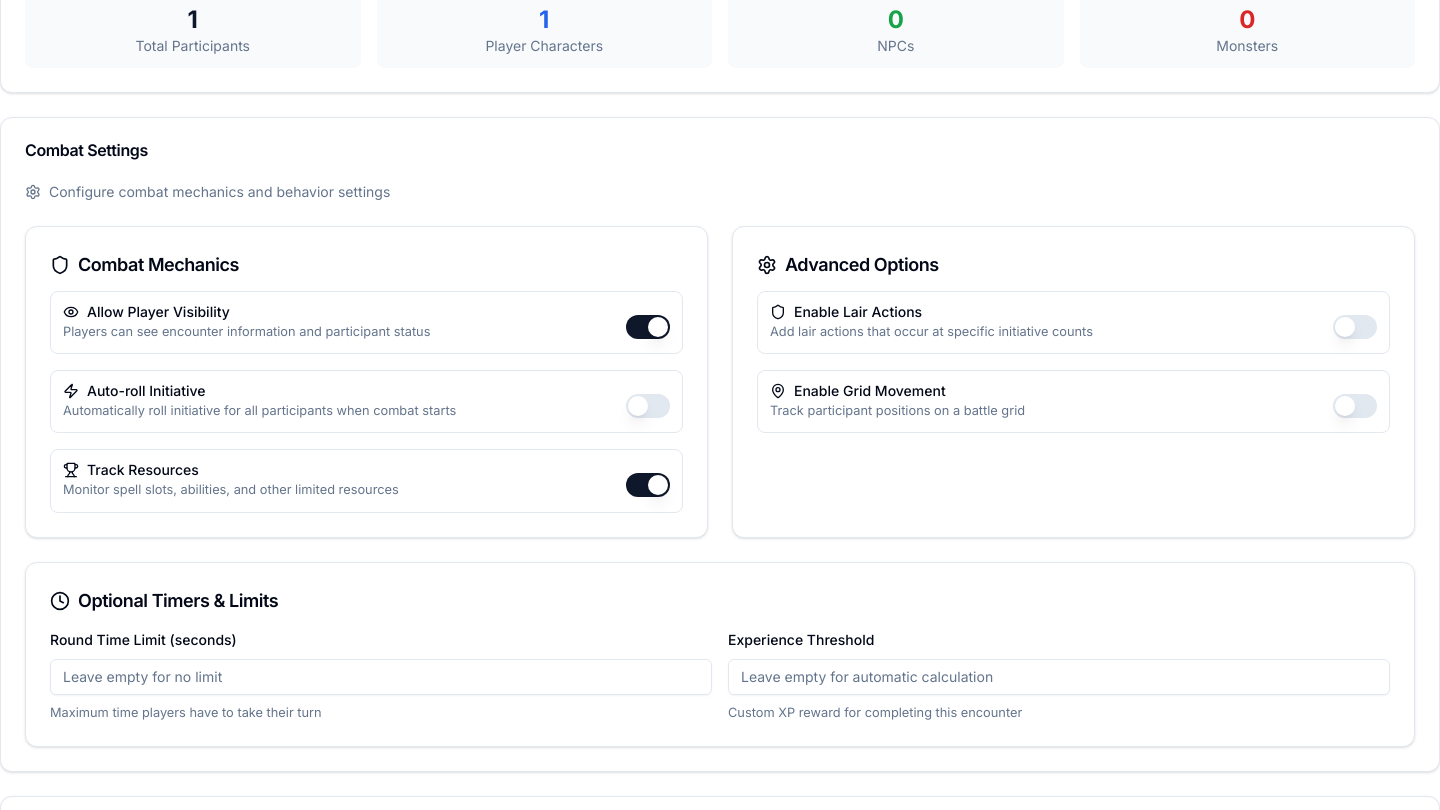
it: EncounterEditForm › Settings Section › should show conditional grid movement settings
The image size is (1440, 810).
(page scrolled)
Click the switch named "Enable Grid Movement" in the row of "Enable Grid Movement".
click(1355, 406)  # box [1333,394,1377,418]
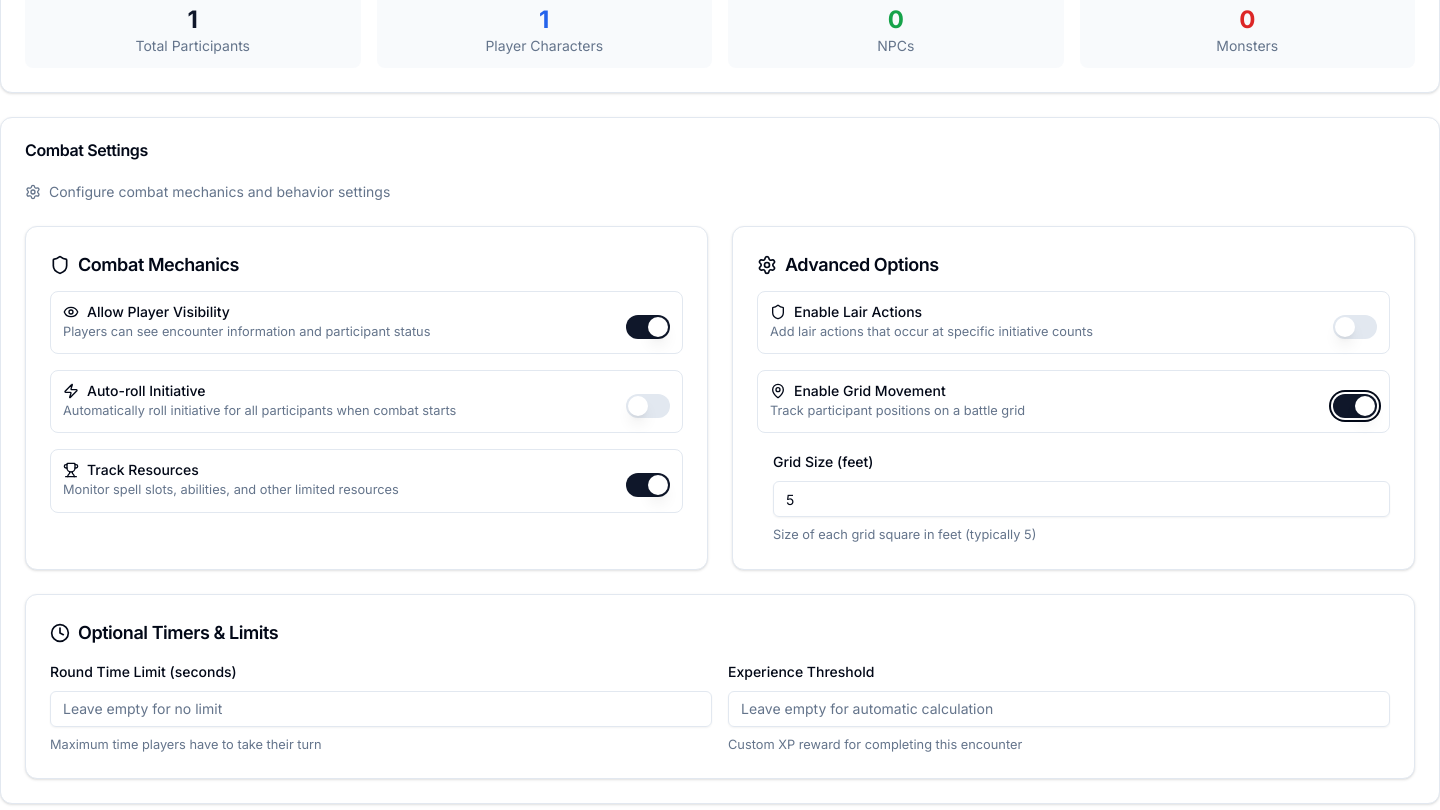
Now the number field labelled "Grid Size (feet)" is shown, box [773,481,1390,517]
